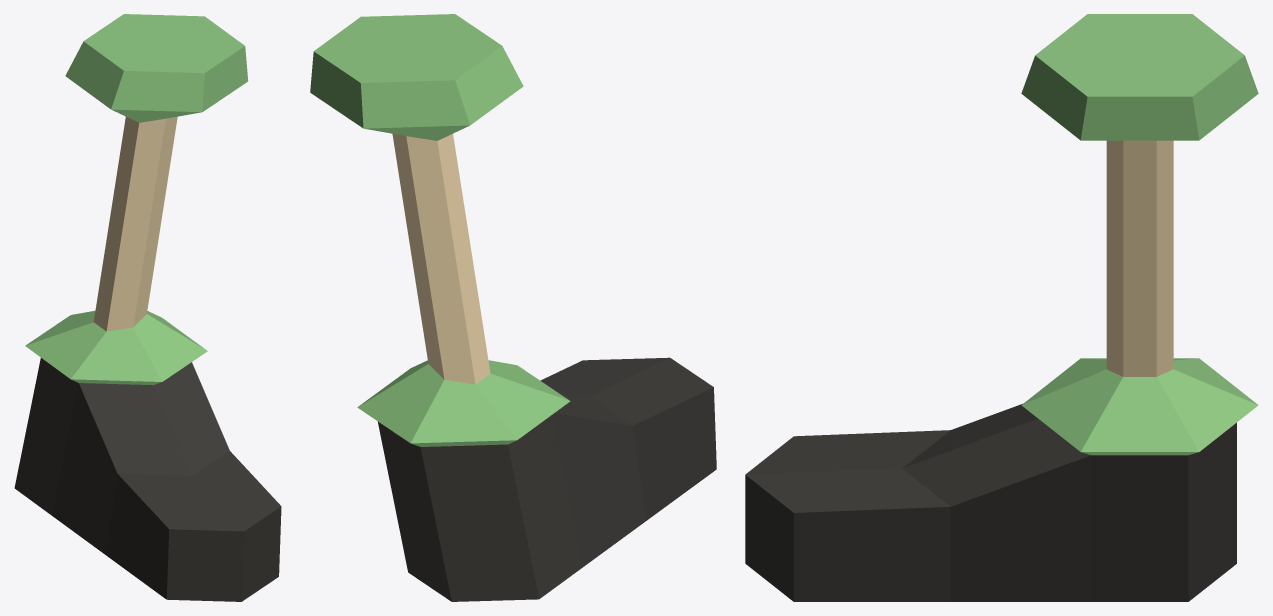
Rendered from RightLeg.fbx.
3 renders of one model, left to right at view 1: azimuth 30°, elevation 25°; view 2: azimuth 150°, elevation 25°; view 3: azimuth 270°, elevation 25°, orthographic. The views are drawn at different scales.
Visible parts, largest first — view 1: RightLeg; view 2: RightLeg; view 3: RightLeg.
Boxes of the visible parts, bbox=[...] form: RightLeg: bbox=[14, 14, 281, 601]; RightLeg: bbox=[310, 14, 716, 601]; RightLeg: bbox=[745, 14, 1258, 601].
Size of the model in its own units: 67.62 by 146 by 121.
